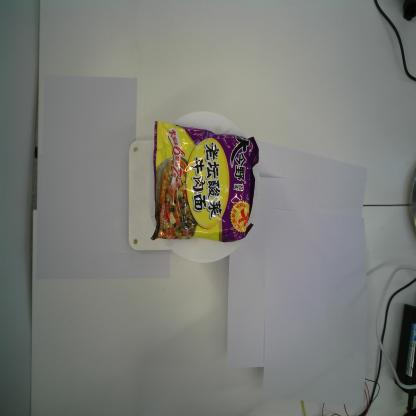Instant Noodles: (150, 119, 261, 244)
